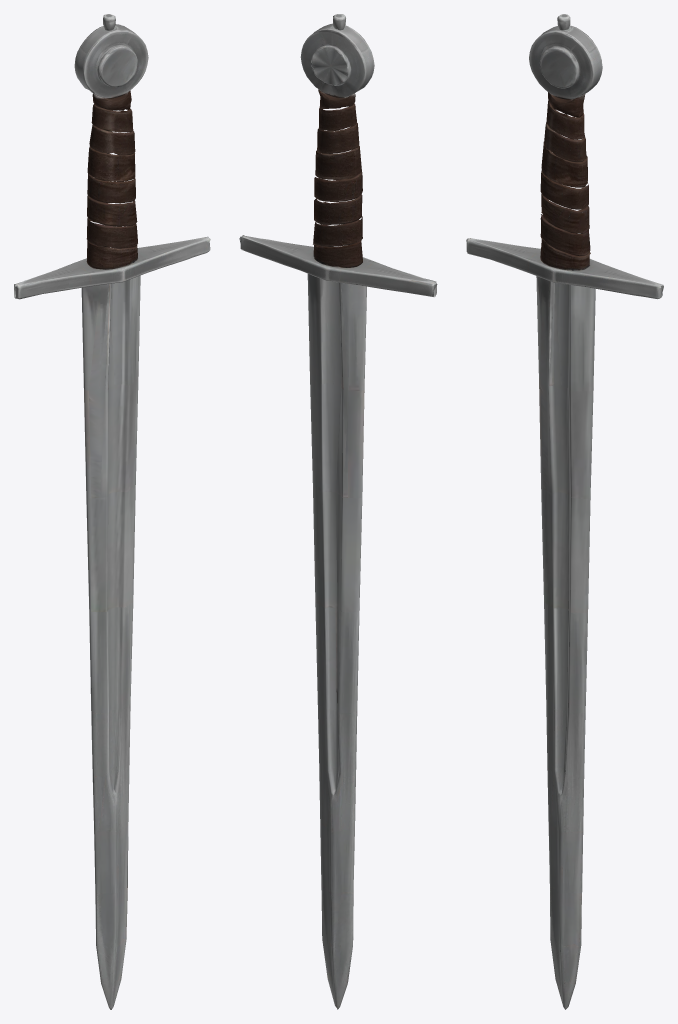
File: weapon_sword.glb
The picture shows the model from 3 angles, left to right: view 1: azimuth 30°, elevation 25°; view 2: azimuth 150°, elevation 25°; view 3: azimuth 330°, elevation 25°; orthographic projection.
Size of the model in its own units: 0.1953 by 0.9507 by 0.0405.
Materials: 1 (1 with a texture image).
